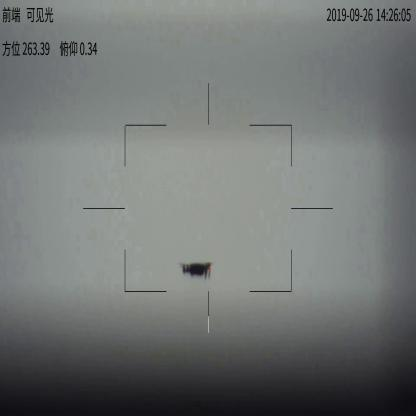uav: (176, 258, 215, 280)
